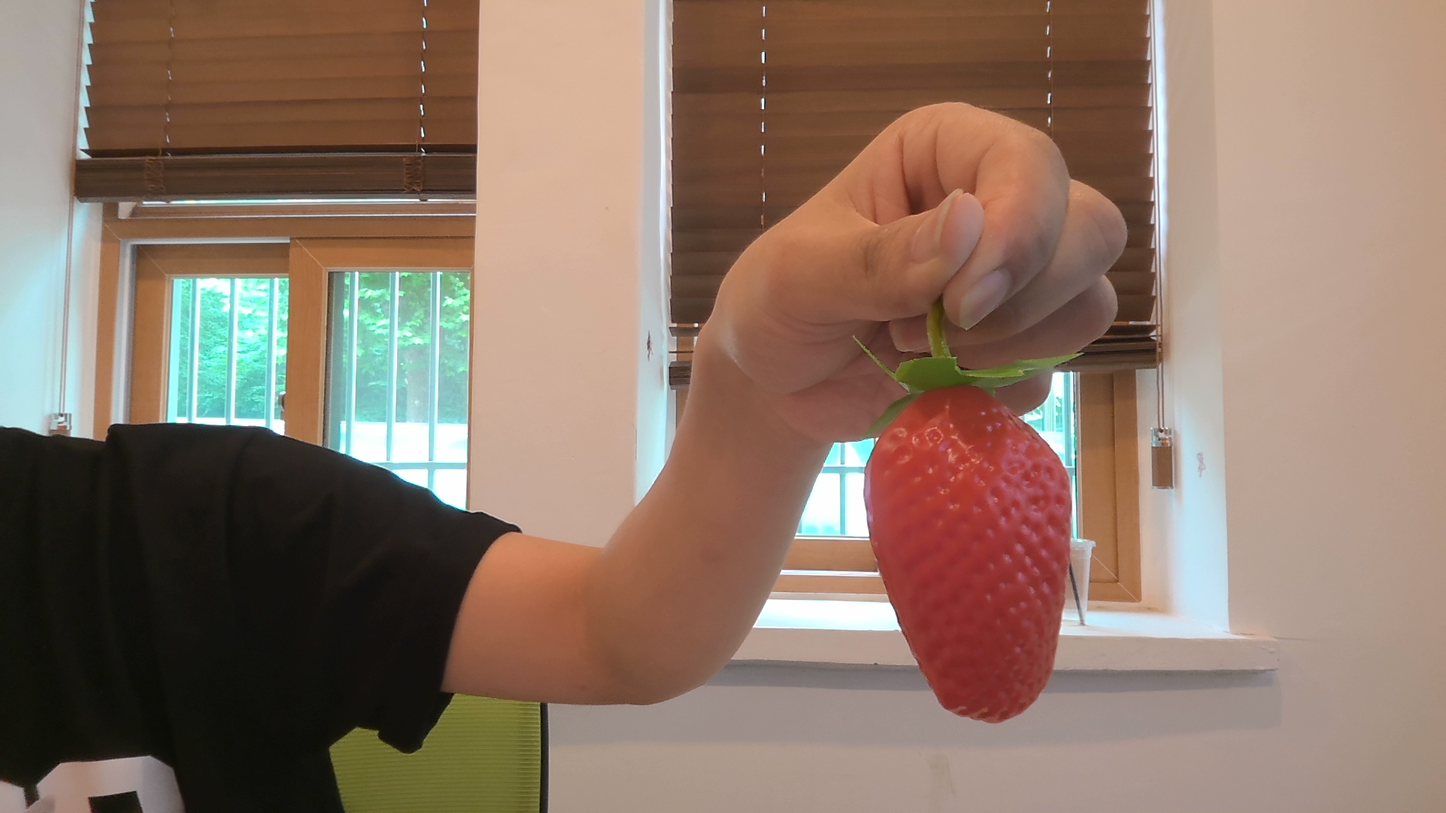strawberry: (846, 376, 1102, 728)
